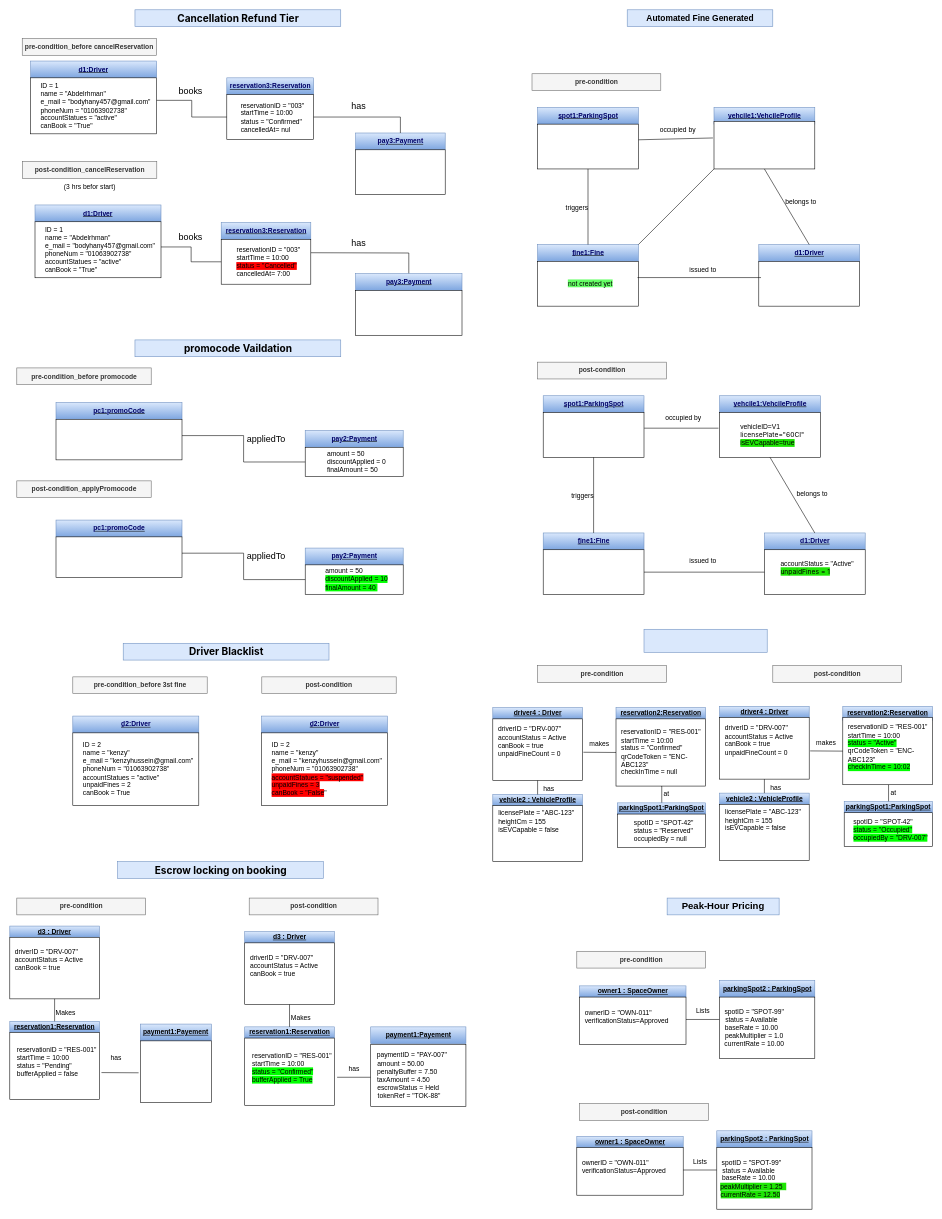
The diagram is 942 pixels wide and 1219 high, and some of its shapes have lost their labels. Here are the shapes that lost their labels. From the top down, the centre of each, then its label:
(587,146): spotID = S101 status = "occupied" violationFlagged=false
(764,145): vehicleID=V1 licensePlate="60CI" isEVCapable=false
(400,172): paymentID = 3 amount = 50:0 escrowStatus = "held" refundAmount= 0
(809,283): accountStatus = "Active" unpaidFines = 0
(408,312): paymentID = 3 amount = 50.0 escrowStatues = "Refunded" refundAmount = 50.0(100%)
(118,439): Code = "SW_1" discountValue = 20% usageLimit = 100 usageCount = 45
(593,434): spotID = S101 status = "occupied" violationFlagged=true
(118,556): CodeID = "SW_1" discountValue = 20% usageLimit = 100 usageCount = 46
(593,572): fineID=F1 spotID=S101 penaltyAmount = 200$ status = "Issued"
(705,640): QR check In
(175,1071): (Not created yet )
